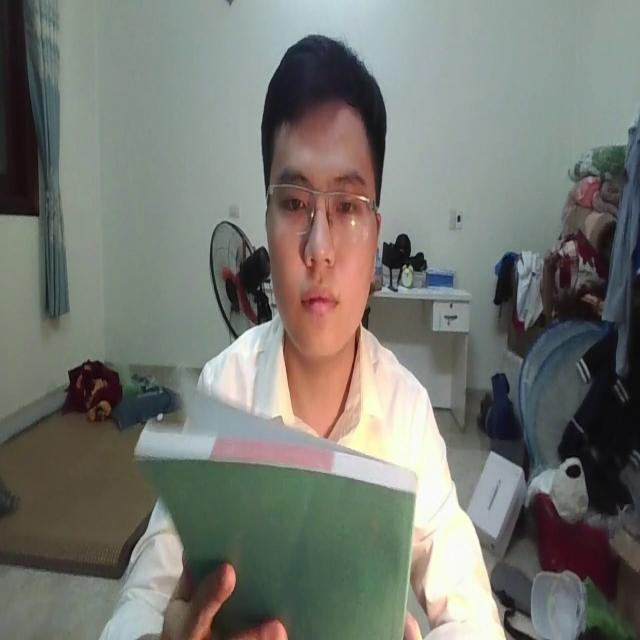book: (138, 352, 423, 618)
student: (100, 30, 507, 640)
